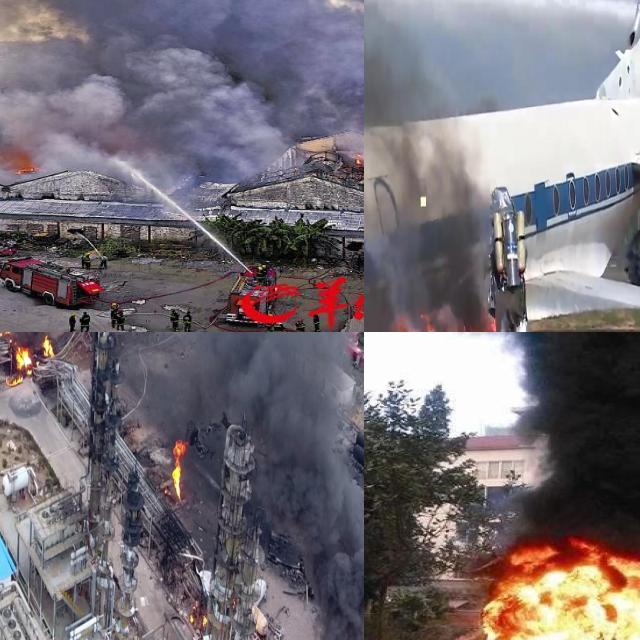fire: (474, 539, 640, 640), (391, 305, 497, 332), (2, 332, 32, 384), (169, 438, 185, 500), (4, 144, 38, 173), (189, 600, 208, 630), (42, 335, 54, 357)
smoke: (133, 332, 364, 640), (0, 0, 364, 174), (445, 332, 640, 555), (364, 0, 484, 312)
